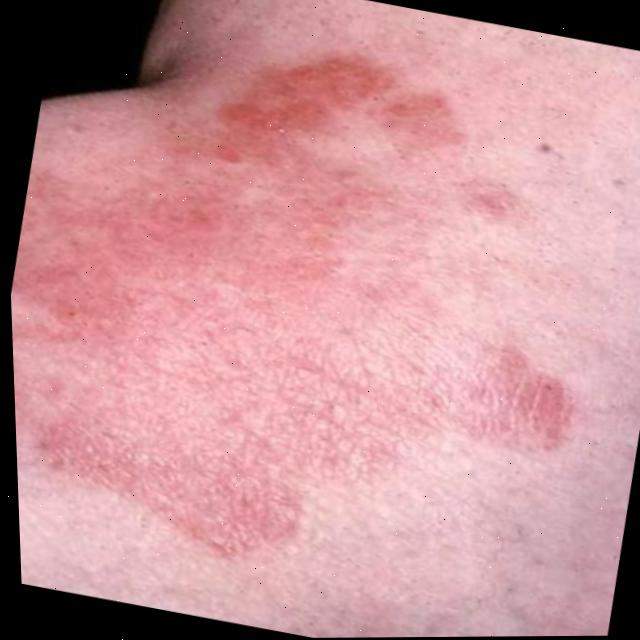Eczema: (28, 38, 591, 597)
